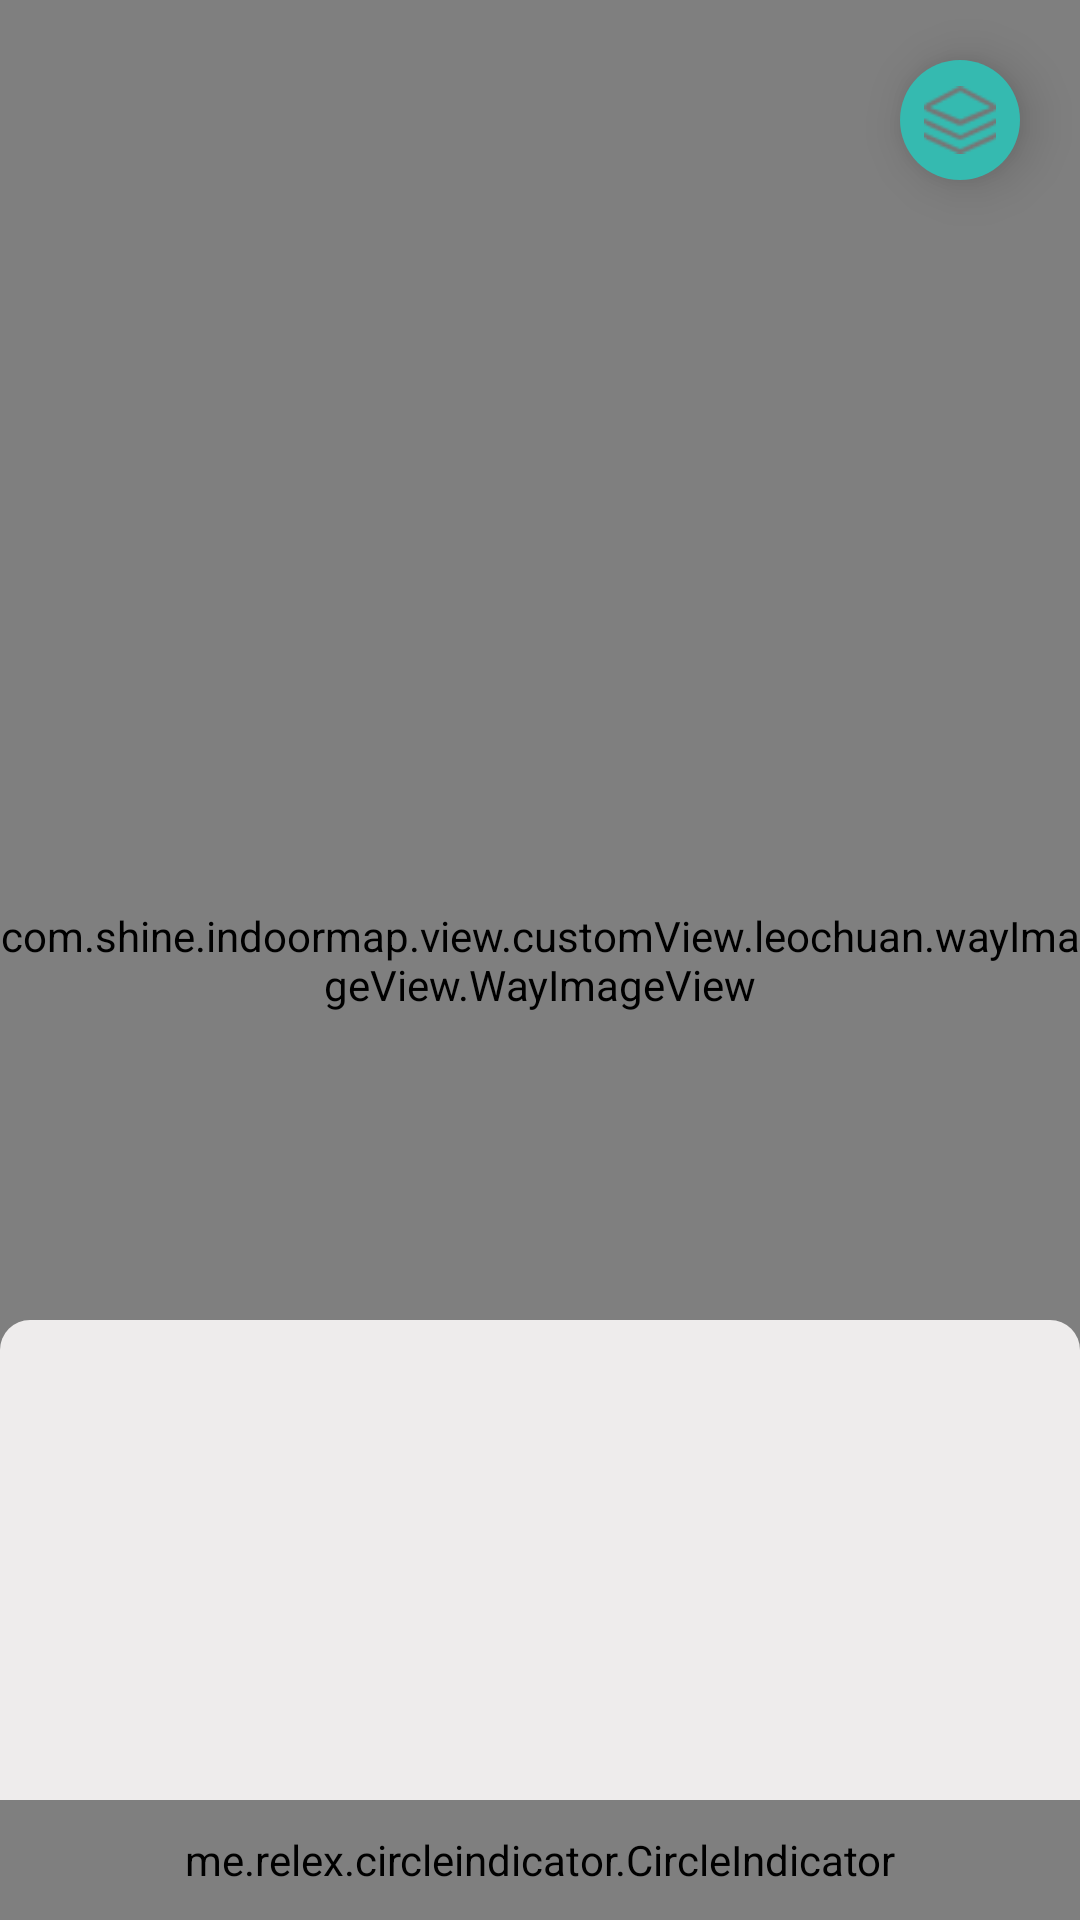

Where to tap for icons on this 1080px x 1920px app screen, as point (x, y):
louyu nav: point (960, 120)
